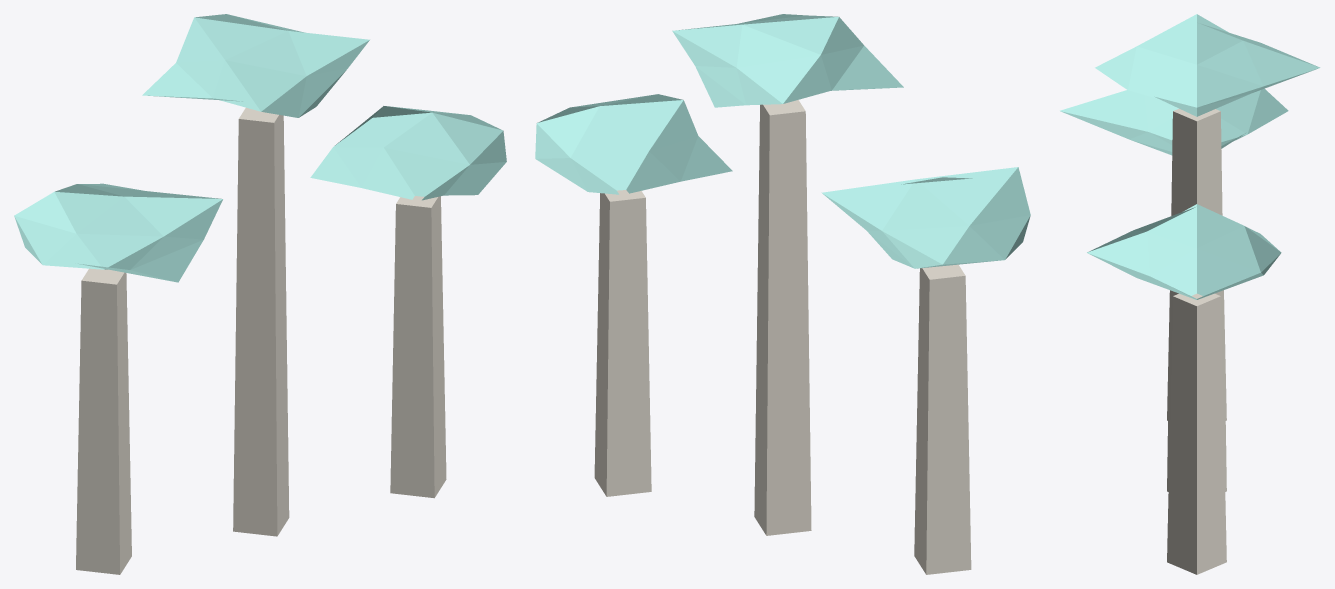
Rendered from glowcap_v28.glb.
3 renders of one model, left to right at view 1: azimuth 30°, elevation 25°; view 2: azimuth 150°, elevation 25°; view 3: azimuth 270°, elevation 25°, orthographic. The views are drawn at different scales.
Parts seen in each view (by area): view 1: lod0; view 2: lod0; view 3: lod0.
Boxes of the visible parts, left/top/right/bottom form: lod0: left=14, top=14, right=506, bottom=574; lod0: left=535, top=14, right=1030, bottom=574; lod0: left=1060, top=14, right=1320, bottom=574.
Size of what is drawn, in the model's own units: 0.4261 by 0.4268 by 0.2181.
